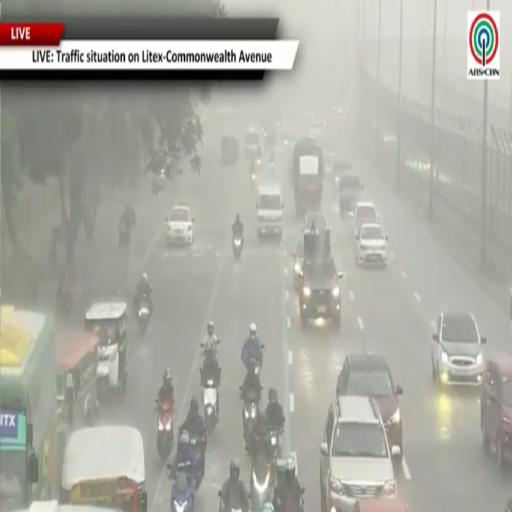bus: (0, 307, 59, 511)
car: (320, 396, 396, 511), (337, 352, 402, 456), (432, 311, 486, 386), (480, 352, 512, 469), (355, 223, 387, 266), (335, 171, 363, 214), (166, 205, 194, 245), (349, 202, 380, 237), (354, 498, 408, 511), (330, 159, 351, 189), (292, 237, 303, 291), (302, 212, 328, 232), (244, 127, 261, 157)
jeepney: (61, 426, 147, 511), (56, 328, 98, 429), (85, 302, 128, 396), (17, 501, 120, 511)
motorcycle: (201, 344, 220, 434), (251, 455, 275, 511), (171, 462, 195, 511), (157, 400, 173, 463), (243, 391, 258, 452), (203, 379, 218, 434), (190, 436, 205, 490), (274, 487, 304, 511), (277, 489, 303, 511), (137, 294, 150, 333), (218, 490, 242, 511), (56, 290, 74, 315), (268, 429, 281, 459), (253, 344, 264, 375), (119, 222, 131, 248), (233, 234, 243, 260)
truck: (298, 229, 343, 330), (291, 137, 324, 215)
